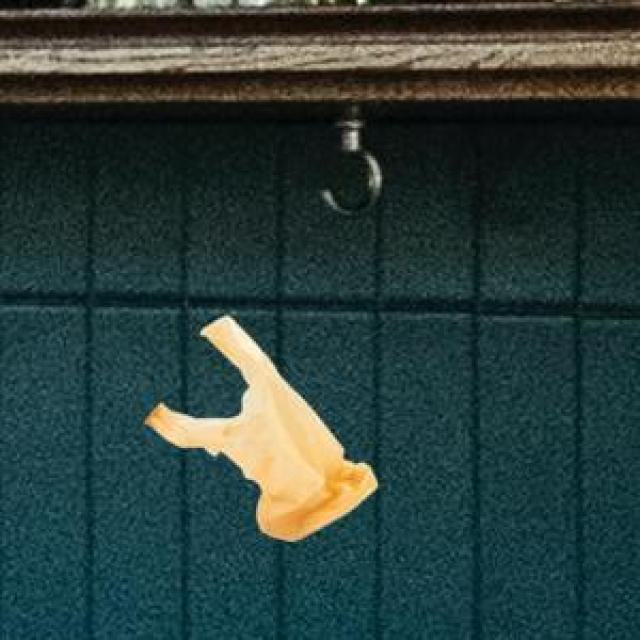waste: (145, 316, 378, 541)
